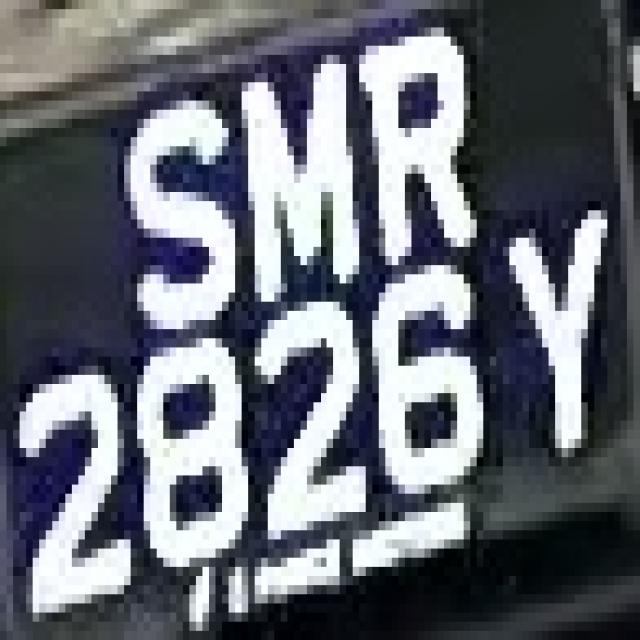2: (242, 292, 385, 558), (0, 5, 2, 9)
6: (379, 192, 483, 530)
8: (124, 302, 248, 612)
M: (222, 46, 359, 329)
R: (340, 9, 483, 265)
S: (105, 64, 242, 357)
Y: (483, 165, 627, 484)
